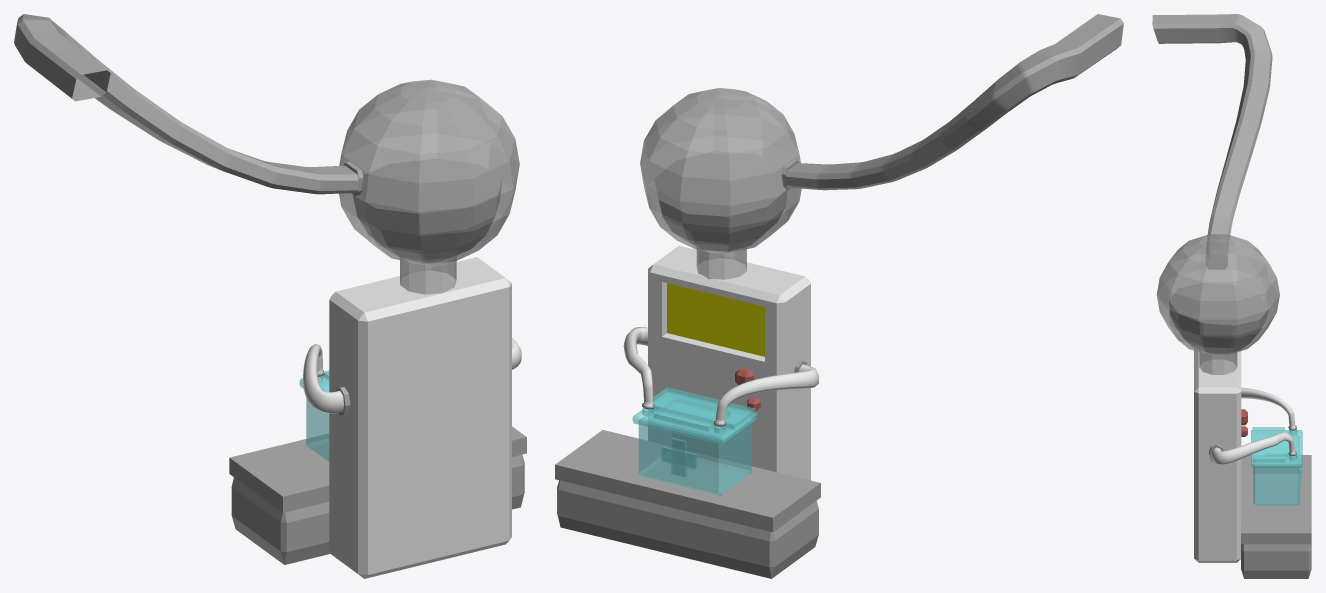
The model's file is Estacion2.fbx.
3 renders of one model, left to right at view 1: azimuth 30°, elevation 25°; view 2: azimuth 150°, elevation 25°; view 3: azimuth 270°, elevation 25°, orthographic. The views are drawn at different scales.
Parts seen in each view (by area): view 1: pCube2, Bombillo, Cable, Liquido4, Meson, Meson2, polySurface3, BatteryTrasparencia; view 2: pCube2, Bombillo, Meson, Meson2, Cable, Liquido4, BatteryTrasparencia, polySurface3; view 3: Bombillo, pCube2, Cable, Meson, Liquido4, BatteryTrasparencia, Meson2, polySurface3.
Part boxes in pixels (x1,y1,x2,y2): pCube2: [329, 257, 511, 578]; Bombillo: [339, 79, 519, 294]; Cable: [14, 14, 363, 195]; Liquido4: [353, 158, 502, 262]; Meson: [229, 426, 526, 512]; Meson2: [231, 454, 524, 564]; polySurface3: [303, 338, 521, 415]; BatteryTrasparencia: [299, 370, 329, 461]; pCube2: [648, 245, 810, 480]; Bombillo: [640, 88, 801, 279]; Meson: [555, 430, 820, 532]; Meson2: [557, 480, 818, 578]; Cable: [781, 14, 1123, 190]; Liquido4: [654, 151, 787, 251]; BatteryTrasparencia: [632, 387, 757, 495]; polySurface3: [623, 327, 819, 426]; Bombillo: [1156, 234, 1279, 374]; pCube2: [1194, 348, 1241, 562]; Cable: [1152, 14, 1272, 269]; Meson: [1241, 455, 1311, 544]; Liquido4: [1169, 282, 1269, 354]; BatteryTrasparencia: [1251, 427, 1302, 505]; Meson2: [1241, 544, 1311, 578]; polySurface3: [1209, 387, 1296, 464].
Bounding box in the file's own units: 87.76 × 99.21 × 35.45.
